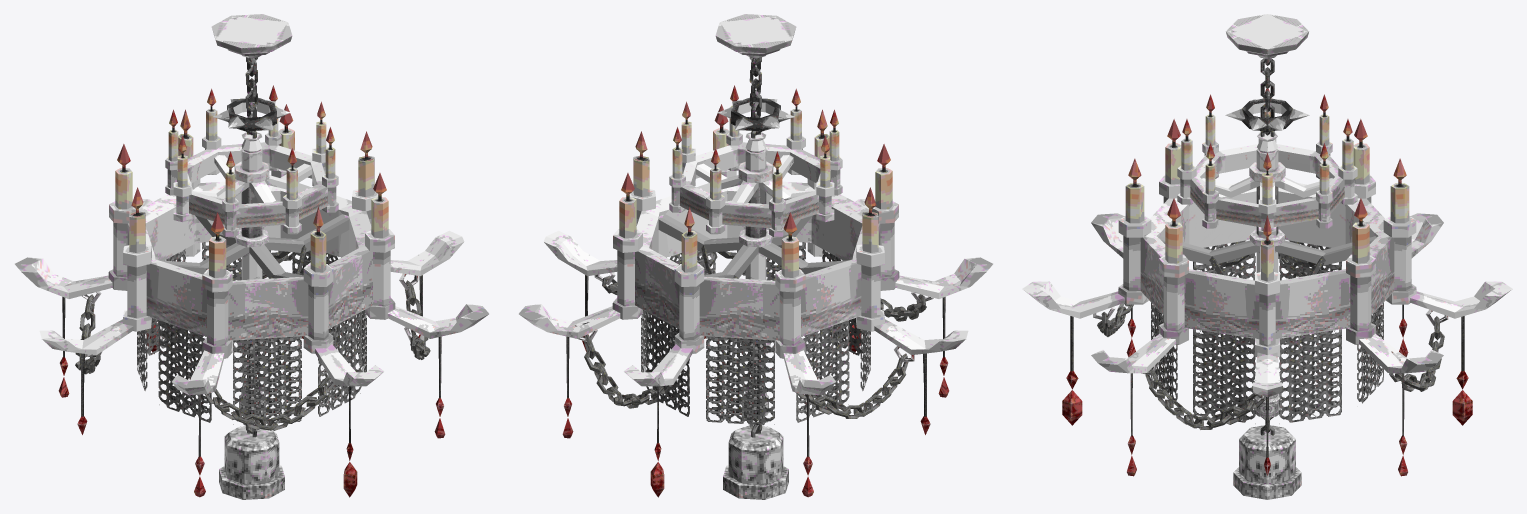
Rendered from kronenleuchter_01.fbx.
The picture shows the model from 3 angles, left to right: view 1: azimuth 30°, elevation 25°; view 2: azimuth 150°, elevation 25°; view 3: azimuth 270°, elevation 25°; orthographic projection.
Visible parts, largest first — view 1: kronenleuchter, chains.001; view 2: kronenleuchter, chains.001; view 3: kronenleuchter, chains.001.
Part boxes in pixels (x1=…): kronenleuchter: x1=15, y1=14, x2=488, y2=499; chains.001: x1=75, y1=57, x2=430, y2=437; kronenleuchter: x1=519, y1=14, x2=992, y2=499; chains.001: x1=575, y1=57, x2=933, y2=437; kronenleuchter: x1=1022, y1=14, x2=1512, y2=499; chains.001: x1=1093, y1=58, x2=1448, y2=435.
Bounding box in the file's own units: 480 × 497 × 487.
2 materials, 2 textured.
